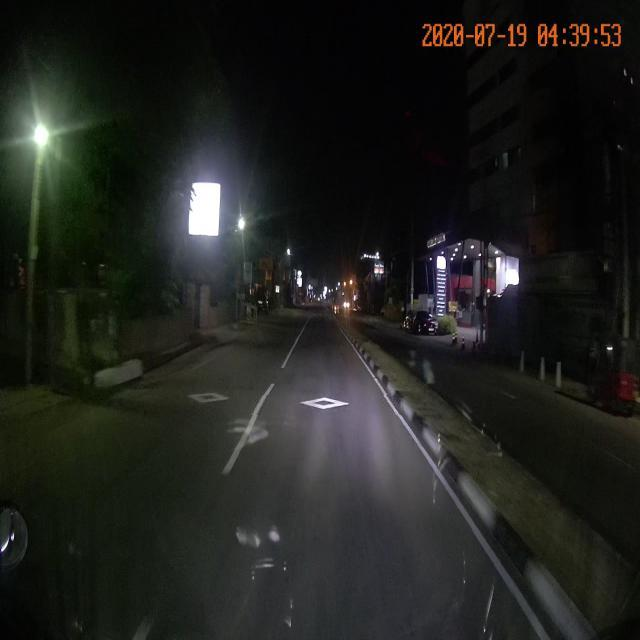diamond: (252, 395, 402, 415)
